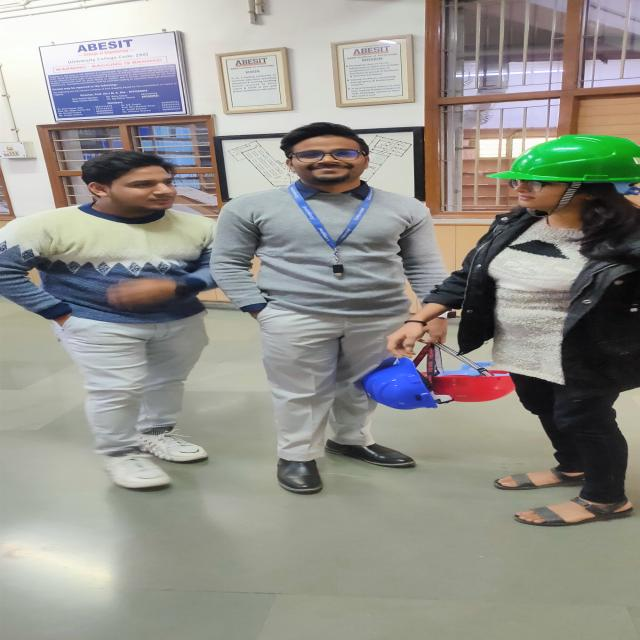no jacket: (397, 134, 640, 523)
unsafe: (210, 124, 450, 495), (5, 152, 220, 489)
